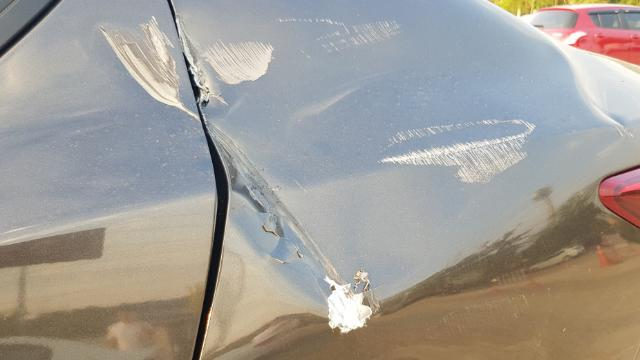Door: (115, 0, 187, 141)
Fender: (183, 0, 619, 353)
